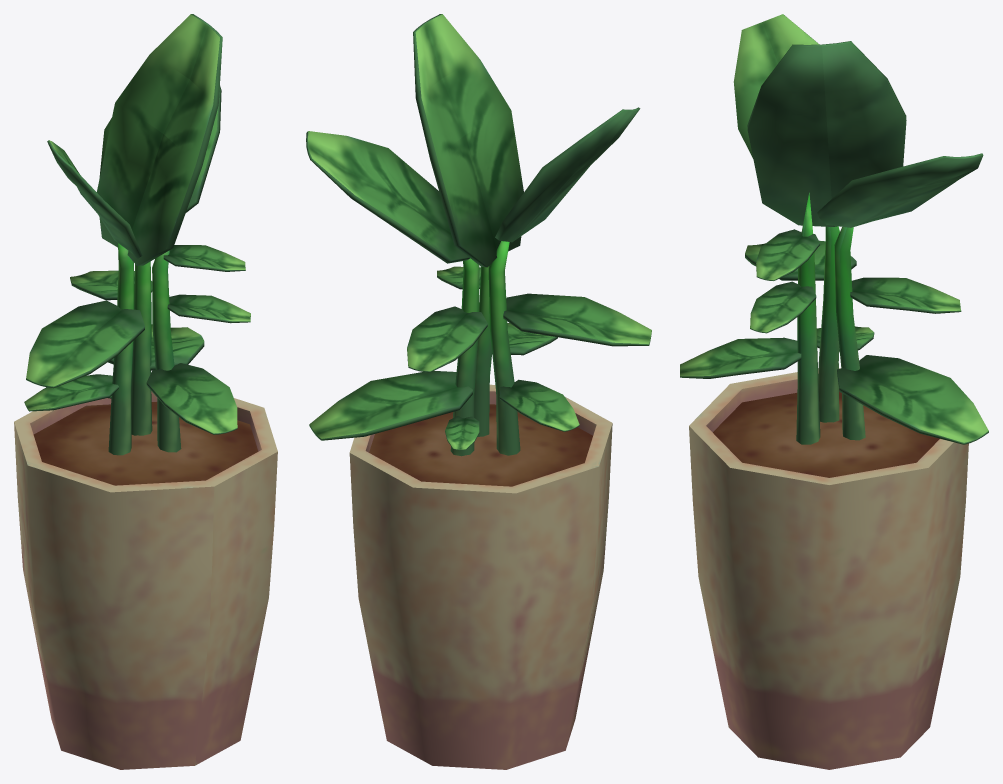
File: PlantaCinema.fbx
3 views of the same model, side by side, from view 1: azimuth 30°, elevation 25°; view 2: azimuth 150°, elevation 25°; view 3: azimuth 270°, elevation 25° (orthographic). The views are drawn at different scales.
Visible parts, largest first — view 1: PlantaCinema; view 2: PlantaCinema; view 3: PlantaCinema.
Part boxes in pixels (x1,y1,x2,y2): PlantaCinema: (14,14,277,769); PlantaCinema: (306,14,651,769); PlantaCinema: (680,14,988,769).
Size of the model in its own units: 35.29 by 88.91 by 34.84.
